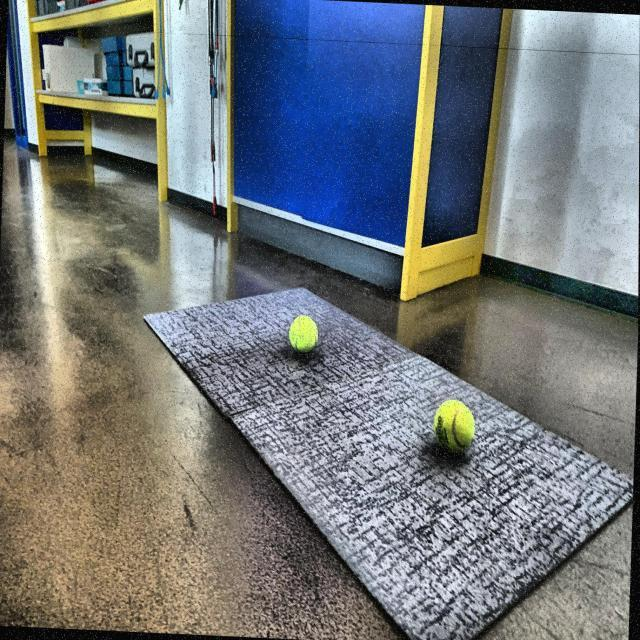tennis-ball: (432, 396, 479, 458), (288, 308, 321, 358)
